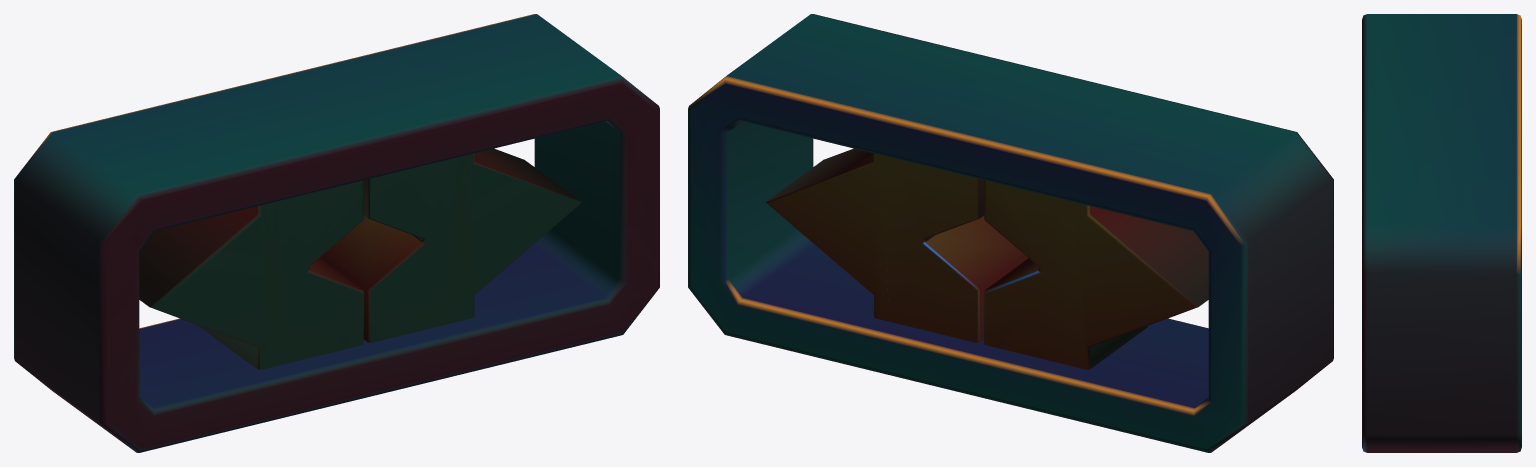
File: Platform_Box_01.fbx
The picture shows the model from 3 angles, left to right: view 1: azimuth 30°, elevation 25°; view 2: azimuth 150°, elevation 25°; view 3: azimuth 270°, elevation 25°; orthographic projection. The views are drawn at different scales.
Parts seen in each view (by area): view 1: Platform; view 2: Platform; view 3: Platform.
Part boxes in pixels (x1=…): Platform: x1=14, y1=14, x2=659, y2=452; Platform: x1=688, y1=14, x2=1333, y2=452; Platform: x1=1362, y1=14, x2=1521, y2=452.
Bounding box in the file's own units: 215 × 95 × 60.
